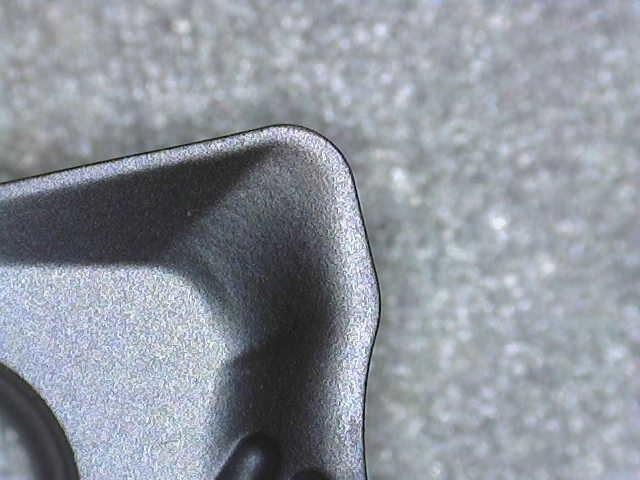normal: (0, 121, 384, 477)
